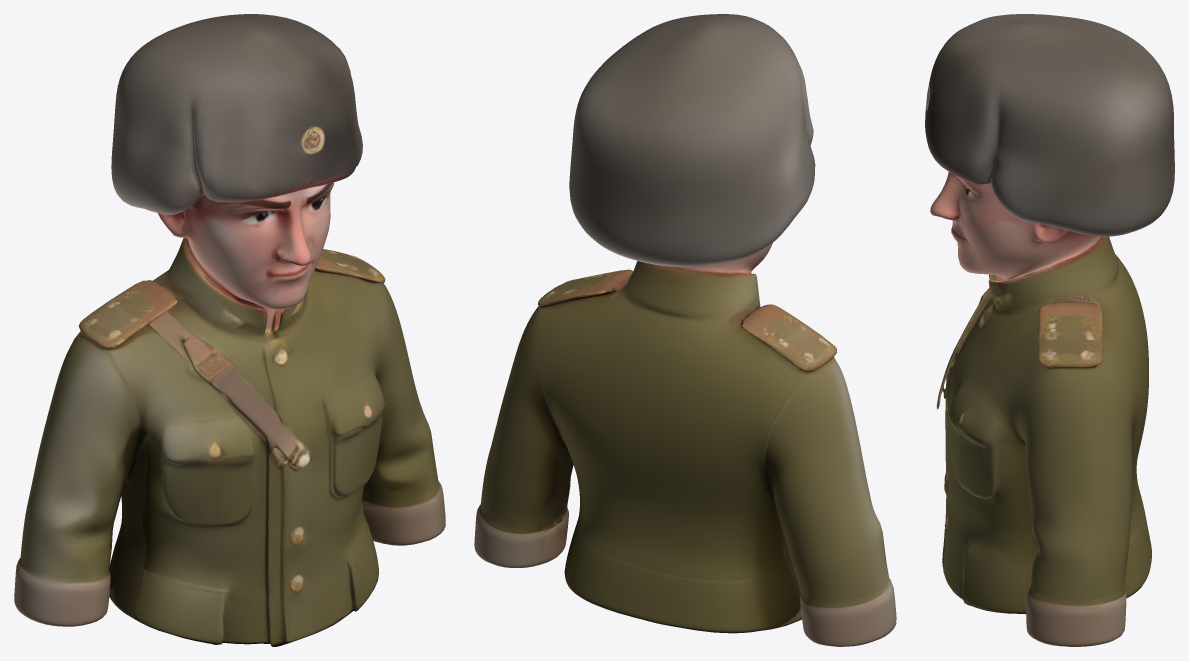
Rendered from base_basic_pbr.glb.
The picture shows the model from 3 angles, left to right: view 1: azimuth 30°, elevation 25°; view 2: azimuth 150°, elevation 25°; view 3: azimuth 270°, elevation 25°; orthographic projection. The views are drawn at different scales.
Parts seen in each view (by area): view 1: model; view 2: model; view 3: model.
Boxes of the visible parts, x1,y1,x2,y2 form: model: [14, 14, 445, 646]; model: [474, 14, 896, 646]; model: [925, 14, 1174, 646].
Bounding box in the file's own units: 1.43 × 1.9 × 0.781.
1 material, 1 textured.
